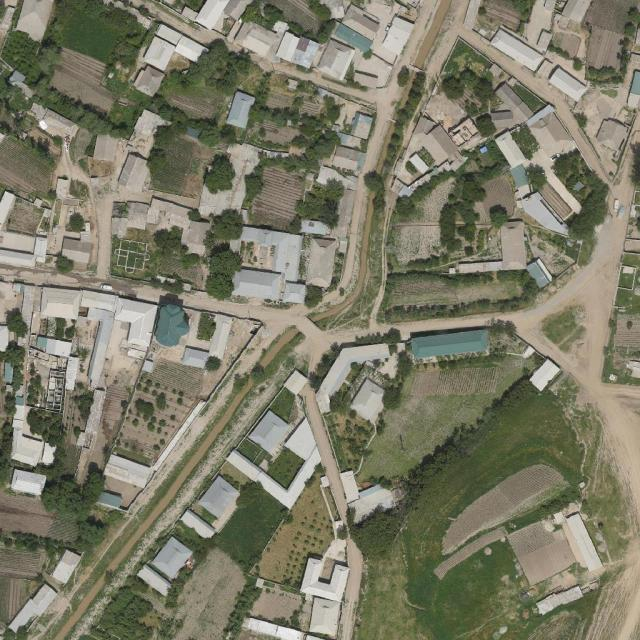agricultural_land: (333, 314, 540, 494), (426, 453, 570, 556), (250, 475, 357, 598), (112, 350, 208, 472), (381, 265, 540, 323), (108, 195, 210, 283), (46, 45, 127, 115), (46, 45, 127, 115), (246, 163, 309, 236), (0, 136, 61, 204), (0, 136, 60, 205), (0, 547, 46, 624), (148, 132, 200, 199), (516, 534, 579, 589), (412, 169, 458, 229), (91, 382, 131, 442), (250, 586, 303, 626), (346, 49, 394, 93), (506, 518, 556, 559), (394, 225, 442, 265), (584, 26, 624, 73), (584, 26, 624, 73), (528, 611, 584, 639), (626, 224, 640, 239)
building: (225, 408, 330, 510), (300, 325, 395, 416), (234, 226, 306, 283), (76, 307, 114, 389), (7, 582, 60, 639), (109, 297, 159, 349), (24, 100, 80, 146), (490, 27, 546, 73), (537, 574, 600, 614), (410, 328, 490, 359), (564, 511, 604, 573), (299, 556, 351, 603), (233, 17, 284, 62), (84, 316, 115, 389), (348, 377, 393, 425), (348, 377, 393, 425), (283, 417, 327, 462), (197, 476, 241, 520), (151, 536, 194, 581), (197, 476, 239, 519), (104, 453, 154, 489), (248, 410, 289, 453), (115, 151, 155, 194), (231, 266, 283, 299), (340, 3, 384, 42), (156, 303, 193, 349), (14, 0, 54, 42), (316, 40, 356, 82), (534, 583, 584, 616), (306, 236, 336, 288), (547, 66, 589, 103), (272, 233, 303, 283), (308, 597, 343, 637), (381, 16, 415, 57), (40, 287, 82, 320), (332, 22, 374, 55), (595, 115, 632, 152), (494, 130, 528, 170), (179, 508, 217, 543), (500, 220, 526, 271), (50, 546, 83, 586), (142, 36, 177, 72), (429, 123, 463, 160), (206, 313, 233, 359), (315, 165, 359, 193), (556, 0, 591, 34), (226, 91, 256, 130), (528, 358, 562, 392), (173, 34, 210, 65), (528, 358, 561, 392), (132, 64, 165, 98), (9, 468, 47, 497), (11, 435, 46, 466), (524, 257, 555, 290), (60, 237, 93, 265), (274, 30, 301, 63), (524, 102, 556, 128), (332, 146, 363, 172), (35, 337, 73, 358), (349, 111, 375, 141), (80, 290, 117, 311), (93, 133, 118, 163), (155, 22, 183, 47), (62, 355, 81, 391), (182, 346, 209, 371), (457, 260, 504, 274), (20, 285, 36, 326), (284, 370, 309, 396), (282, 281, 307, 305), (414, 115, 437, 140), (407, 152, 430, 176), (98, 490, 123, 510), (509, 164, 529, 188), (628, 70, 640, 108), (300, 220, 329, 235), (33, 235, 48, 263), (180, 6, 198, 23), (55, 177, 69, 198), (398, 184, 414, 201), (520, 345, 536, 361), (3, 362, 14, 384), (630, 70, 640, 94), (126, 347, 145, 358), (315, 86, 331, 99), (185, 126, 201, 139), (287, 79, 299, 91), (12, 419, 24, 431), (100, 283, 113, 292), (480, 146, 489, 155)
dryland: (193, 134, 264, 227), (144, 198, 194, 234), (64, 175, 102, 214), (0, 281, 23, 322), (630, 70, 640, 94)
greenland: (351, 377, 584, 640), (334, 314, 540, 493), (319, 169, 417, 341), (571, 404, 636, 563), (163, 29, 261, 121), (549, 144, 625, 261), (206, 477, 293, 574), (426, 38, 511, 121), (35, 80, 125, 146), (251, 80, 326, 158), (139, 124, 201, 199), (37, 465, 112, 525), (96, 583, 167, 640), (292, 171, 350, 229), (0, 25, 55, 84), (100, 82, 155, 141), (198, 240, 247, 302), (537, 298, 592, 353), (392, 70, 434, 129), (437, 198, 482, 252), (408, 165, 455, 206), (449, 168, 492, 212), (199, 151, 237, 195), (110, 238, 151, 277), (24, 121, 68, 156), (150, 222, 189, 258), (197, 117, 239, 148), (76, 515, 109, 553), (155, 100, 193, 132), (374, 121, 397, 173), (390, 193, 418, 221), (11, 531, 41, 551), (324, 96, 341, 124), (67, 211, 86, 233), (112, 202, 128, 217), (399, 89, 410, 105)
metalled_road: (95, 196, 113, 279)
unmetalled_road: (115, 377, 258, 565), (299, 387, 355, 522), (136, 0, 224, 52), (150, 398, 208, 473), (53, 574, 109, 640), (340, 179, 372, 291), (365, 87, 401, 172), (411, 0, 453, 69), (240, 304, 322, 337), (339, 537, 365, 640), (166, 84, 224, 120), (400, 313, 487, 336), (300, 318, 333, 370), (260, 325, 299, 366), (183, 292, 240, 316), (96, 195, 112, 279), (266, 327, 299, 361)
